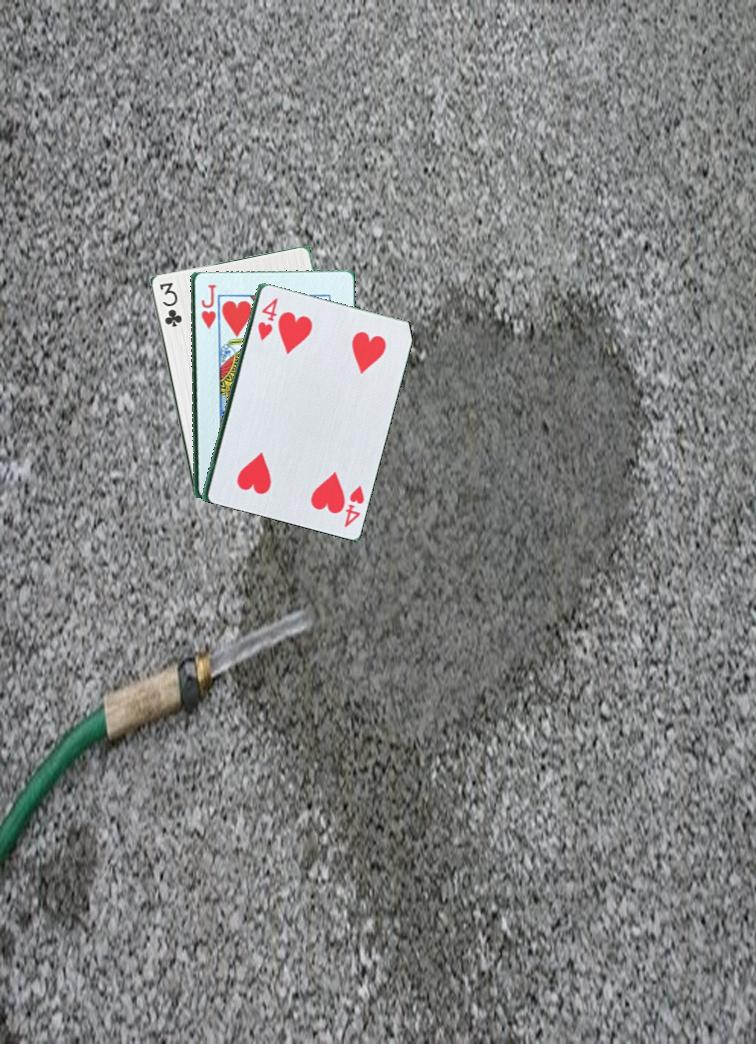3c: (155, 278, 185, 333)
4h: (335, 475, 367, 532), (254, 294, 281, 344)
jh: (197, 281, 217, 332)
